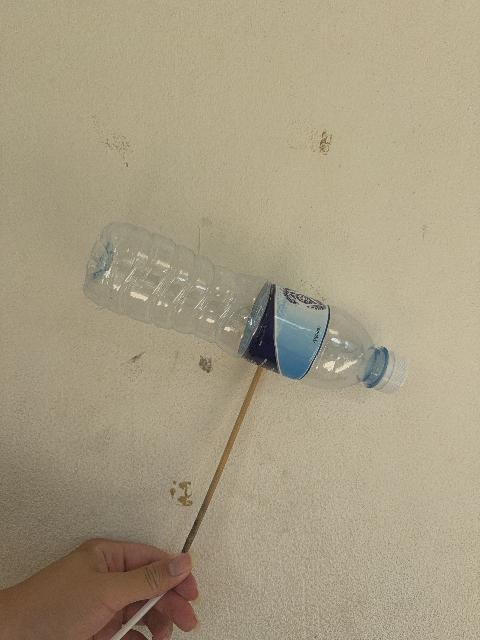bottle: (83, 223, 406, 393)
